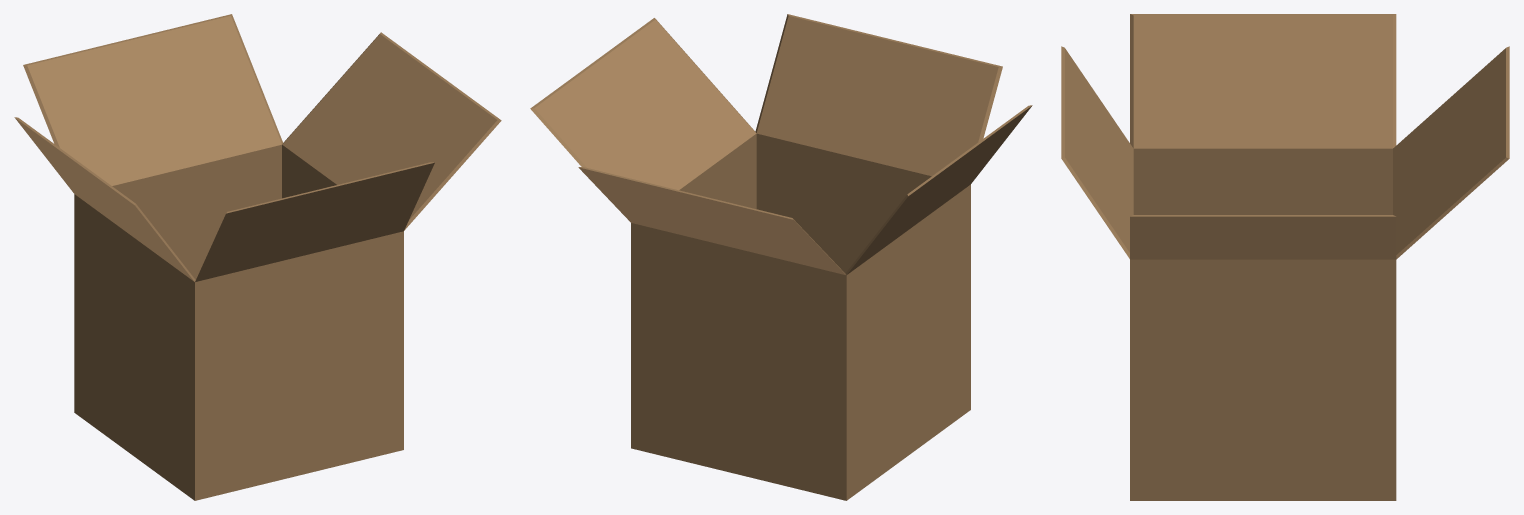
The model's file is BoxOpen.fbx.
The picture shows the model from 3 angles, left to right: view 1: azimuth 30°, elevation 25°; view 2: azimuth 150°, elevation 25°; view 3: azimuth 270°, elevation 25°; orthographic projection. The views are drawn at different scales.
Parts seen in each view (by area): view 1: BoxOpen.; view 2: BoxOpen.; view 3: BoxOpen..
Part boxes in pixels (<box>): BoxOpen.: <box>14,14,501,500</box>; BoxOpen.: <box>530,14,1032,500</box>; BoxOpen.: <box>1061,14,1509,500</box>.
Bounding box in the file's own units: 351 × 284 × 337.
